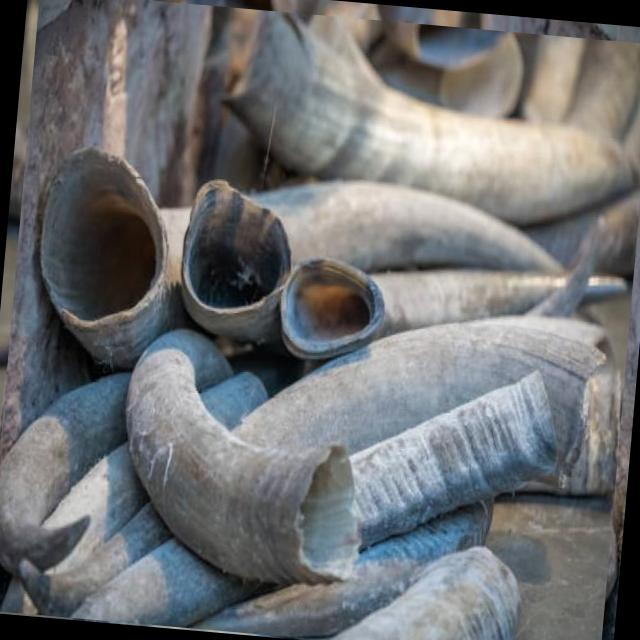animal: (70, 110, 564, 590)
